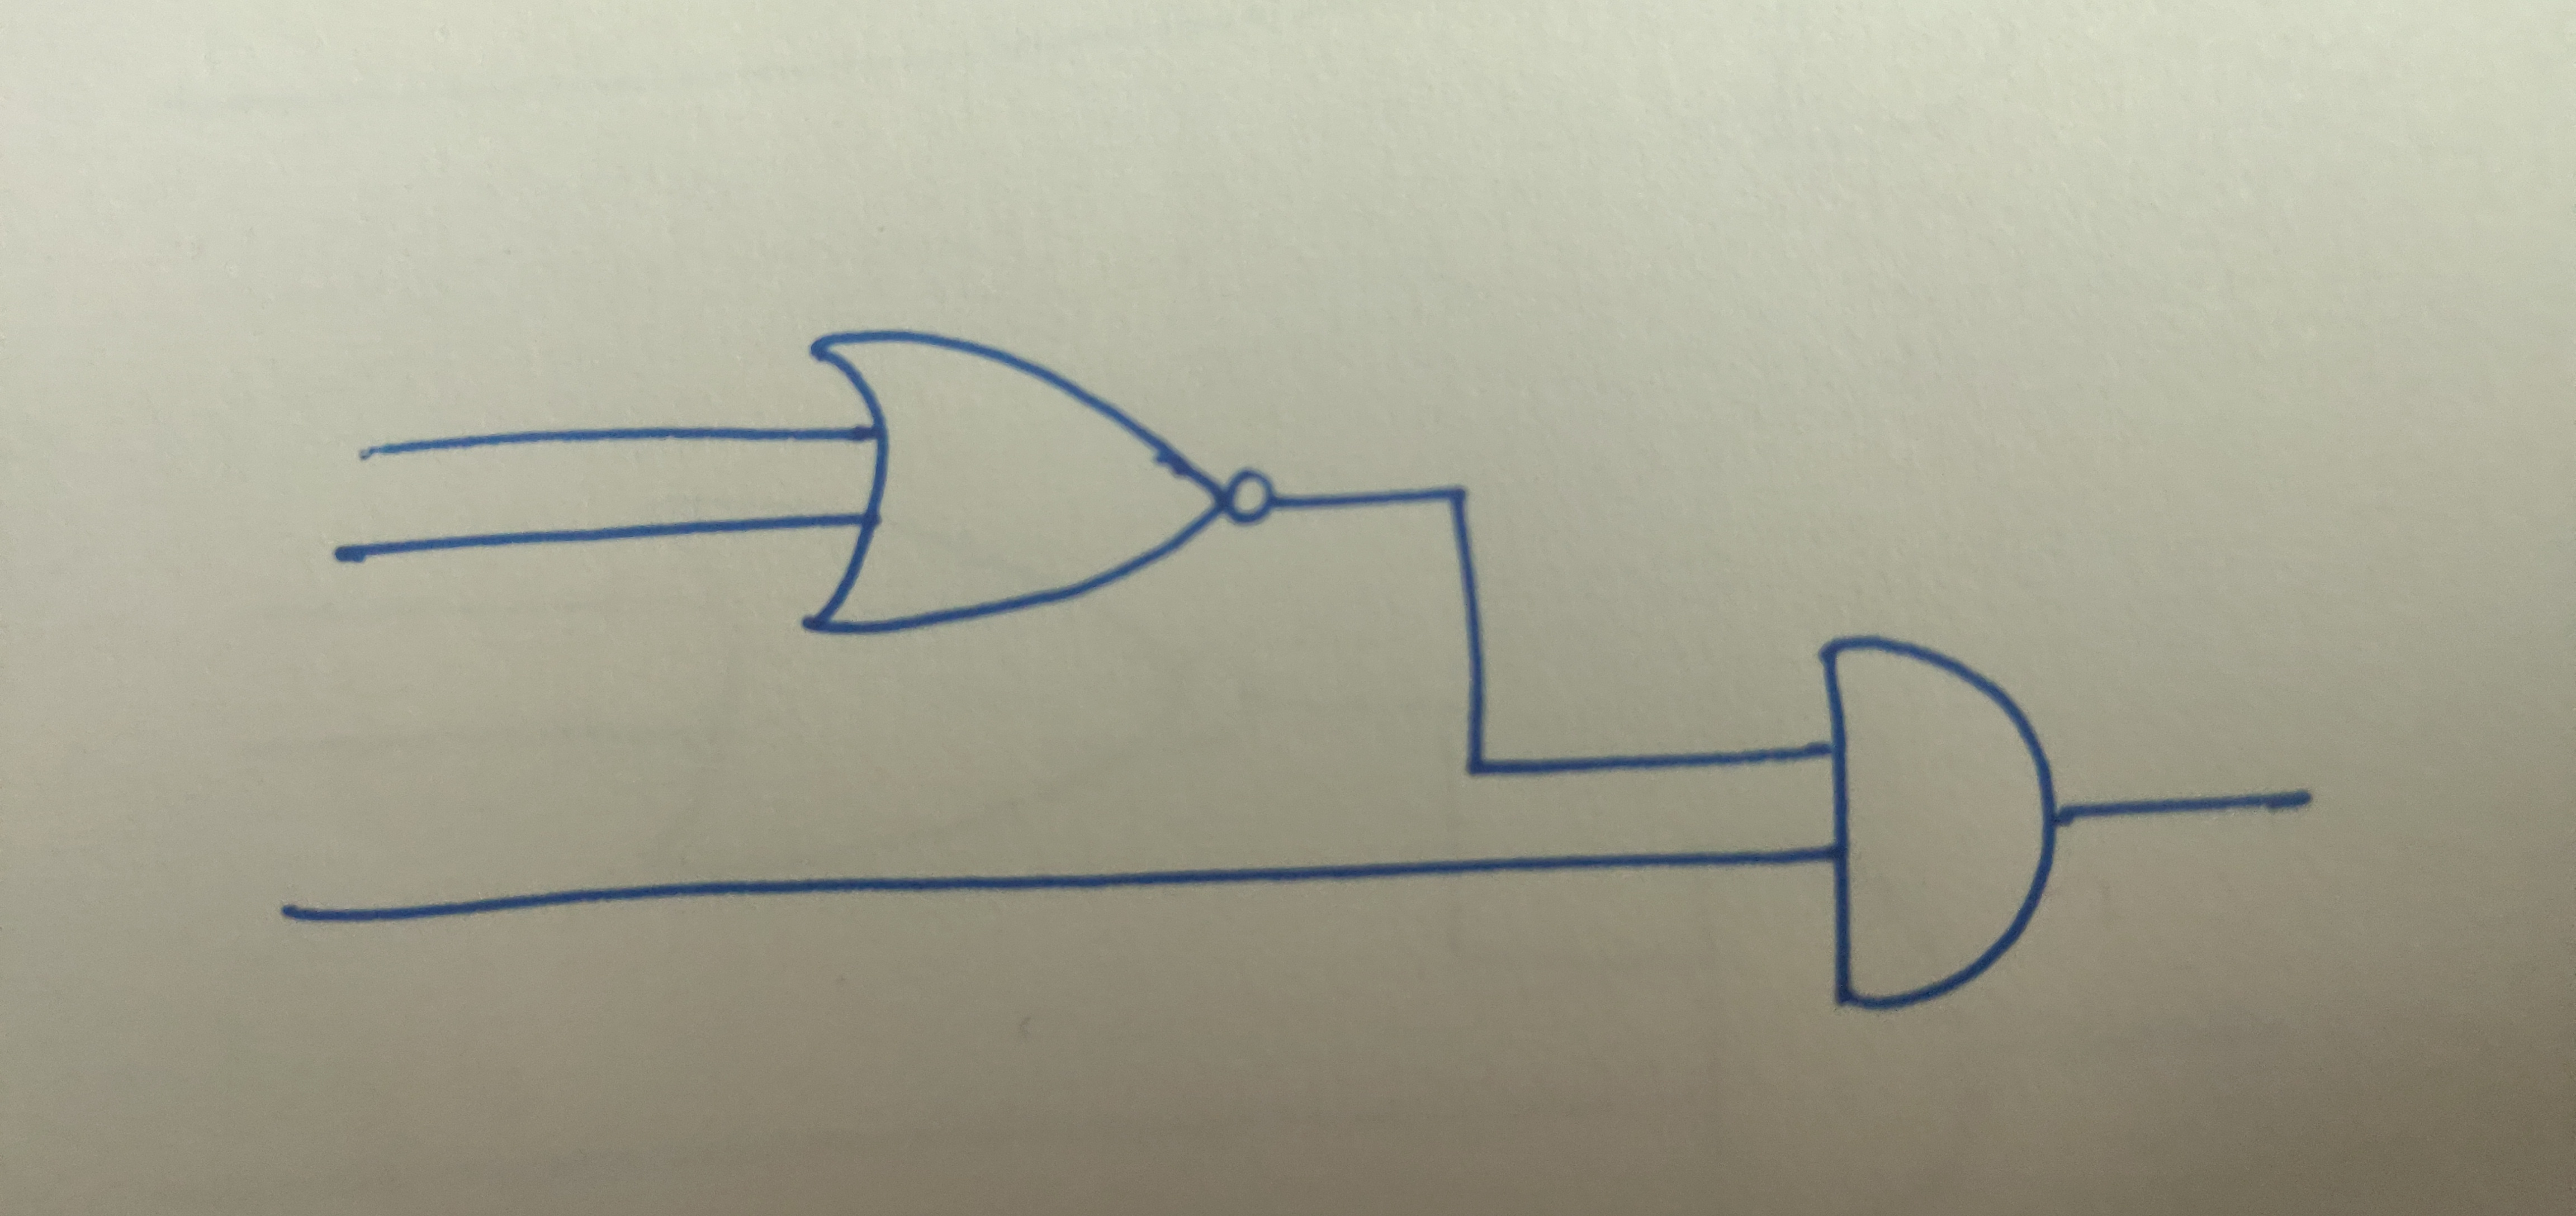and: (1817, 631, 2057, 1009)
not: (1219, 467, 1278, 536)
or: (802, 319, 1229, 641)
